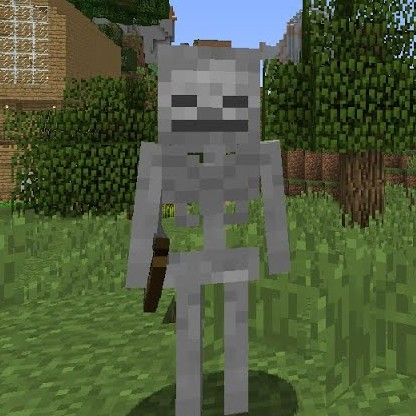skeleton: (137, 40, 282, 234)
